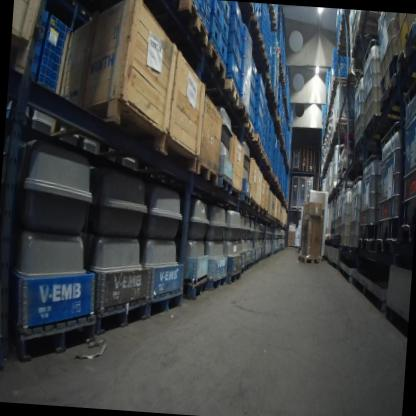pallet: (17, 306, 98, 368), (95, 292, 151, 339), (176, 0, 211, 48), (149, 285, 185, 322), (201, 76, 241, 108), (203, 41, 228, 80), (182, 274, 208, 300), (196, 159, 221, 186), (224, 97, 249, 123), (239, 13, 262, 40), (205, 270, 228, 292), (242, 131, 262, 149), (217, 173, 234, 194), (251, 34, 267, 56), (253, 53, 271, 71), (52, 0, 80, 10), (338, 24, 354, 41), (297, 255, 321, 266), (75, 3, 91, 19), (340, 10, 357, 25), (337, 39, 352, 56), (332, 76, 347, 92), (227, 269, 242, 285), (0, 334, 6, 373), (265, 4, 277, 23), (238, 2, 255, 15), (243, 121, 255, 137), (238, 192, 251, 205), (264, 72, 272, 90), (260, 152, 269, 165), (267, 89, 276, 101), (269, 22, 279, 32), (268, 99, 278, 109), (259, 145, 265, 157), (266, 159, 272, 170), (279, 60, 284, 73), (275, 124, 282, 133), (281, 79, 287, 89), (279, 71, 285, 80), (275, 116, 281, 125), (244, 263, 250, 271), (268, 167, 273, 175), (274, 177, 279, 185), (307, 159, 315, 163), (308, 155, 315, 159), (268, 214, 272, 220), (255, 259, 259, 265), (307, 170, 315, 173), (307, 168, 315, 171), (307, 166, 315, 169), (307, 164, 315, 167), (307, 157, 315, 160), (299, 170, 307, 173), (299, 168, 307, 171), (300, 162, 308, 165), (300, 160, 308, 163), (300, 158, 308, 161), (300, 156, 308, 159), (300, 154, 308, 157), (300, 152, 308, 155), (300, 150, 308, 153), (308, 153, 315, 156), (308, 151, 315, 154), (300, 166, 307, 169), (300, 164, 307, 167), (307, 162, 315, 164), (271, 216, 274, 221)
small_load_carrier: (208, 19, 221, 54), (210, 0, 223, 31), (217, 33, 228, 67), (220, 10, 230, 44), (225, 55, 235, 79), (228, 15, 238, 39), (29, 55, 40, 76), (227, 36, 237, 59), (221, 1, 231, 22), (229, 1, 239, 22), (233, 61, 240, 90), (37, 22, 46, 40), (34, 38, 43, 56), (41, 8, 49, 27), (237, 9, 243, 34), (235, 41, 241, 65), (236, 25, 242, 48), (256, 73, 263, 91), (256, 10, 262, 30), (255, 88, 262, 105), (258, 121, 263, 142), (254, 103, 261, 118), (254, 116, 260, 133), (263, 96, 269, 113), (260, 95, 265, 114), (263, 107, 268, 125), (262, 120, 267, 137), (253, 3, 259, 16), (332, 61, 340, 70), (262, 82, 266, 99), (267, 108, 271, 125), (258, 3, 262, 18), (262, 133, 266, 147), (265, 130, 269, 144), (332, 69, 339, 77), (260, 108, 263, 126), (266, 122, 270, 135), (333, 55, 340, 62), (333, 48, 339, 56), (265, 140, 268, 154), (338, 69, 343, 77), (343, 69, 348, 77), (339, 56, 344, 63), (307, 165, 315, 169), (339, 63, 344, 69), (343, 63, 348, 69), (344, 57, 348, 64), (299, 170, 307, 173), (299, 162, 307, 165), (308, 147, 316, 150), (308, 149, 316, 152), (307, 159, 315, 162), (299, 168, 306, 171), (300, 164, 307, 167), (300, 160, 307, 163), (300, 158, 307, 161), (300, 156, 307, 159), (301, 152, 308, 155), (308, 151, 315, 154), (308, 153, 315, 156), (308, 155, 315, 158), (308, 157, 315, 160), (307, 170, 314, 173), (301, 154, 308, 156), (308, 162, 315, 164), (308, 164, 315, 166), (307, 168, 314, 170), (300, 167, 306, 169), (301, 150, 307, 152)
